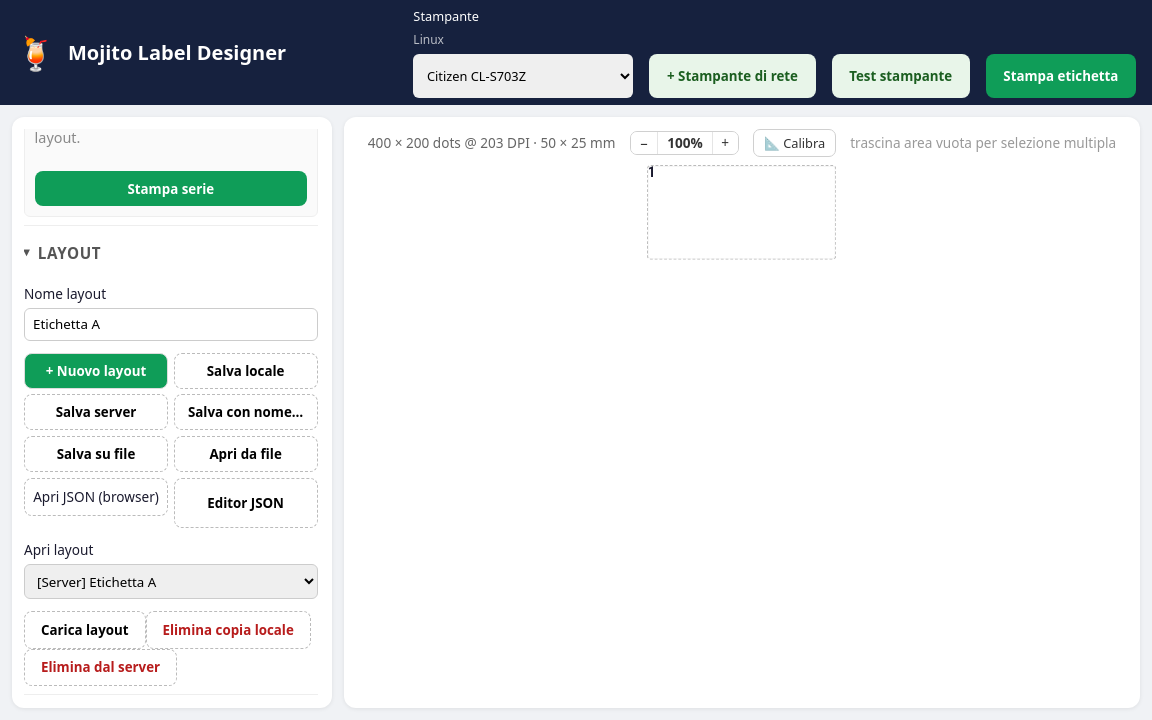
LabelDesigner — salvataggio senza sovrascrivere › "Salva server" › aggiorna senza chiedere il layout aperto se il nome non è cambiato
(page scrolled)
Click the button "Salva server" at (96, 412), box top-left (24, 394), bottom-right (168, 430)
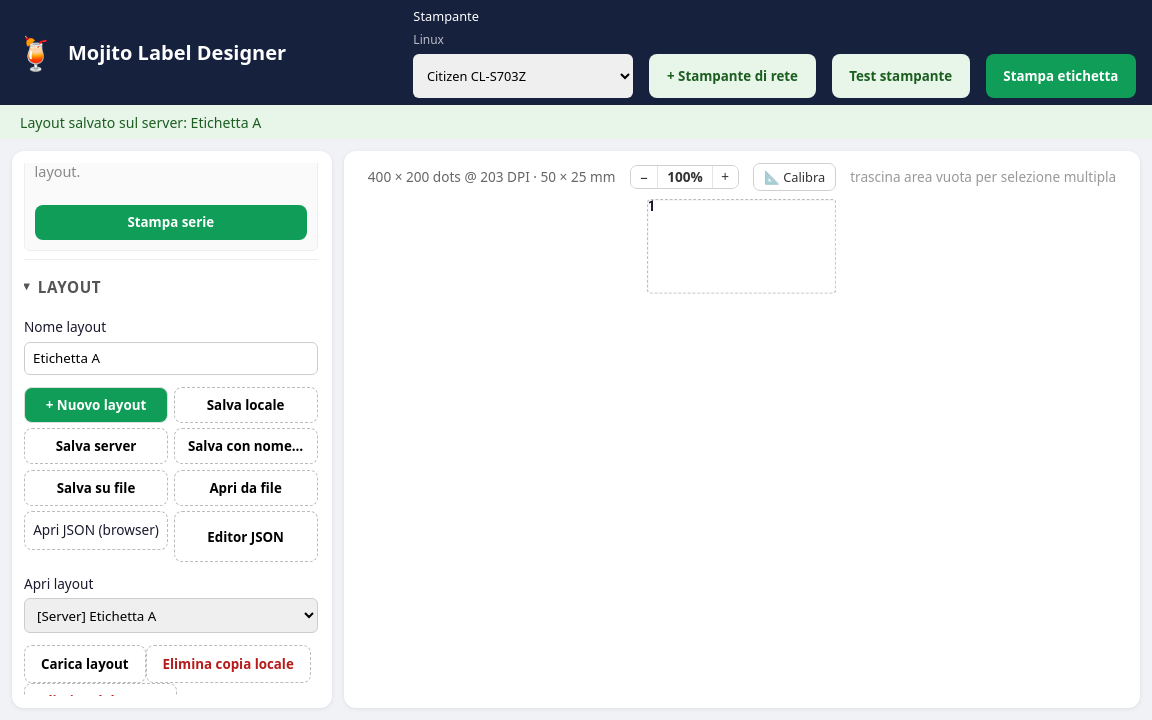
Expected: the element with class "status" reads "Layout salvato sul server: Etichetta A", top-left (20, 112), bottom-right (261, 132)
